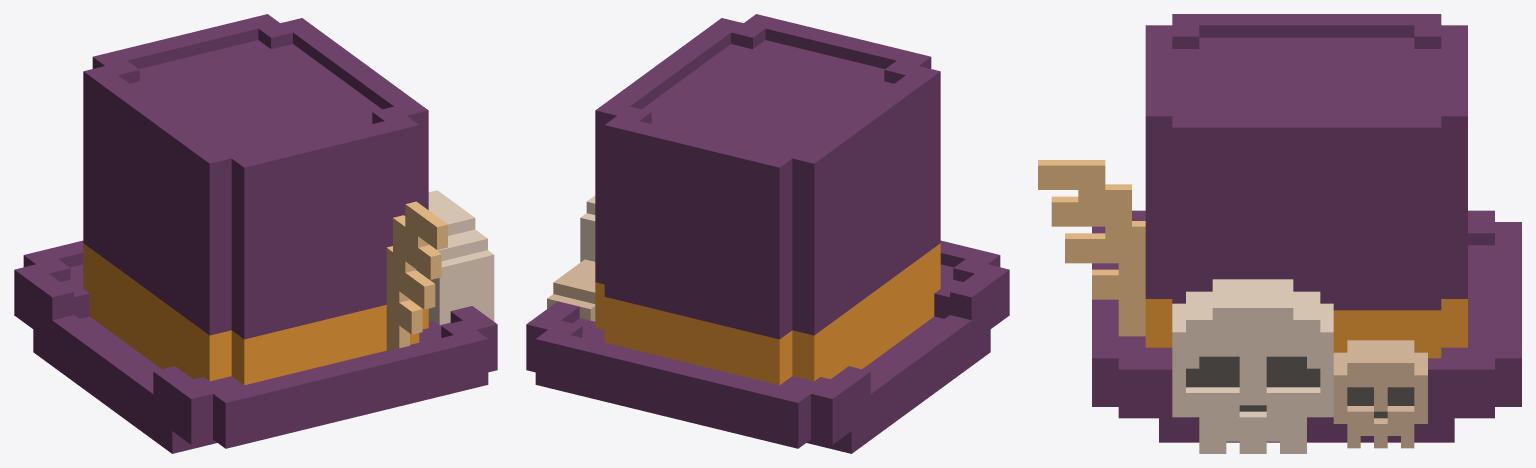
Rendered from av_hat_voodoo.glb.
3 renders of one model, left to right at view 1: azimuth 30°, elevation 25°; view 2: azimuth 150°, elevation 25°; view 3: azimuth 270°, elevation 25°, orthographic. The views are drawn at different scales.
Visible parts, largest first — view 1: model; view 2: model; view 3: model.
Part boxes in pixels (x1=…): model: x1=14, y1=14, x2=497, y2=453; model: x1=526, y1=14, x2=1009, y2=453; model: x1=1038, y1=14, x2=1521, y2=453.
Bounding box in the file's own units: 0.3 × 0.24 × 0.36.
1 material, 1 textured.
